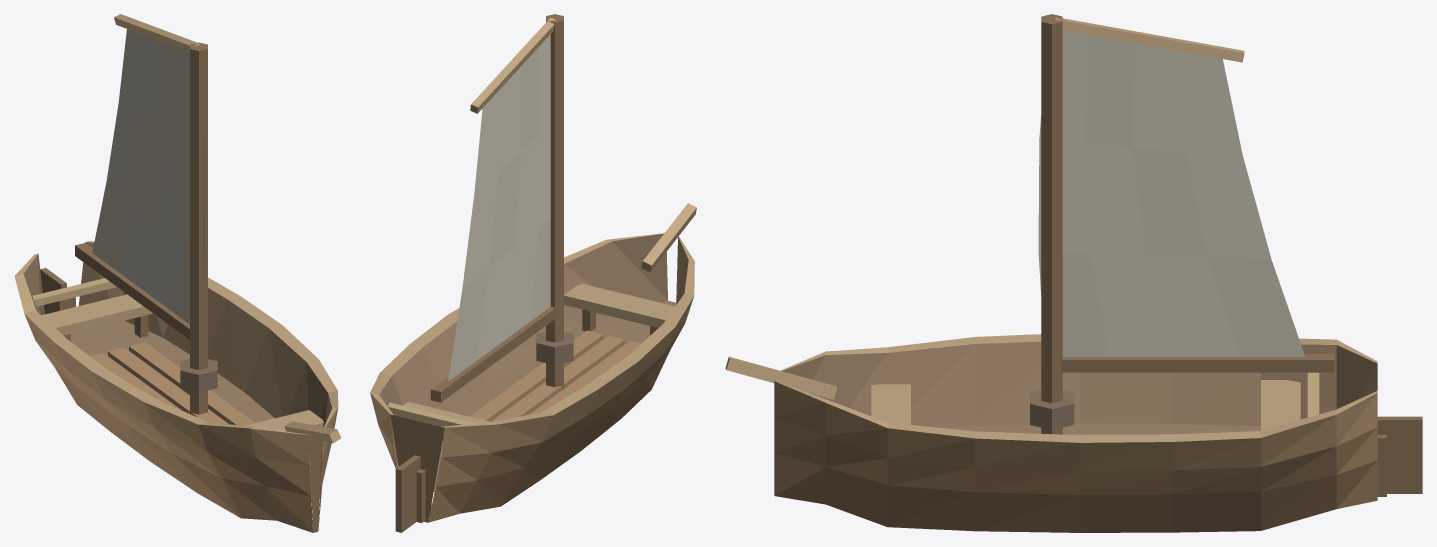
The picture shows the model from 3 angles, left to right: view 1: azimuth 30°, elevation 25°; view 2: azimuth 150°, elevation 25°; view 3: azimuth 270°, elevation 25°; orthographic projection. The views are drawn at different scales.
Parts seen in each view (by area): view 1: Body, SailCloth, Boom, RudderPivot; view 2: Body, SailCloth, Boom, RudderPivot; view 3: Body, SailCloth, Boom, RudderPivot.
Part boxes in pixels (x1,y1,x2,y2): Body: [14, 42, 341, 532]; SailCloth: [92, 29, 204, 324]; Boom: [75, 14, 200, 339]; RudderPivot: [40, 268, 66, 314]; Body: [370, 14, 696, 523]; SailCloth: [448, 34, 550, 381]; Boom: [430, 17, 556, 402]; RudderPivot: [395, 455, 420, 532]; Body: [725, 14, 1386, 532]; SailCloth: [1038, 30, 1305, 356]; Boom: [1055, 17, 1334, 372]; RudderPivot: [1377, 416, 1422, 493].
Size of the model in its own units: 2.24 by 4.67 by 5.97.
